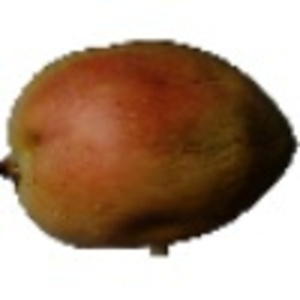mamão: (7, 31, 296, 248)
